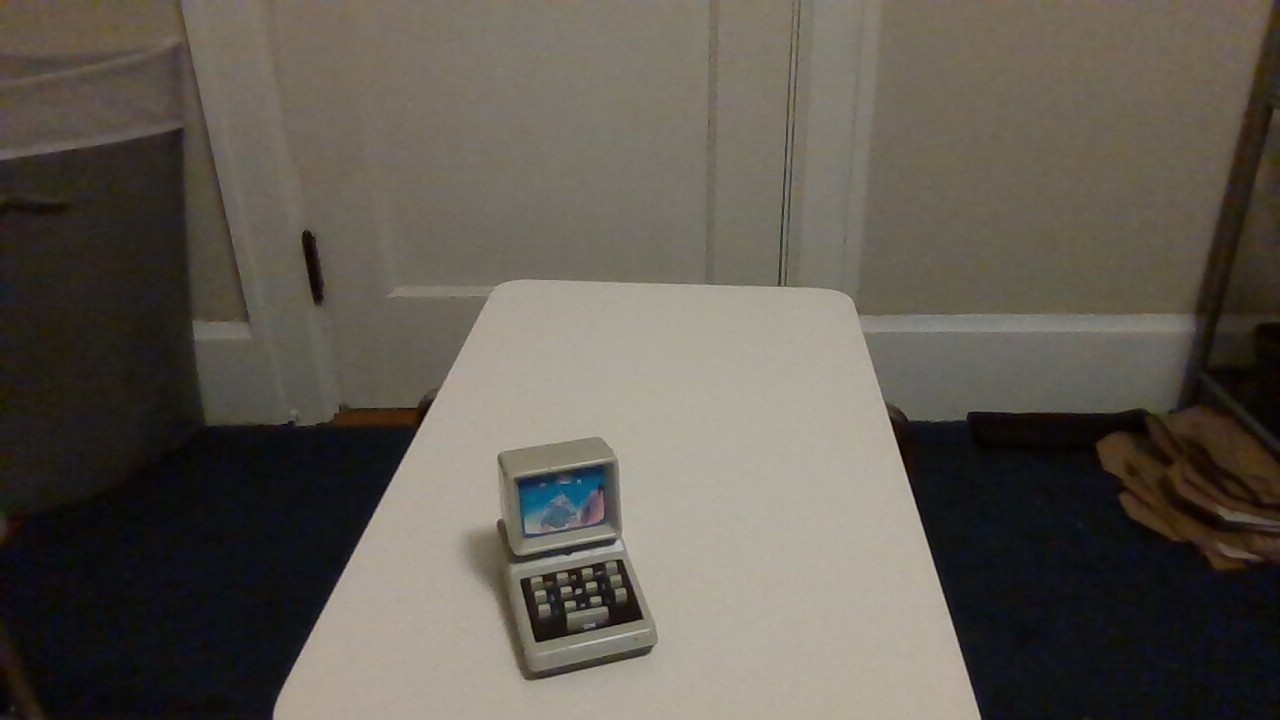Toy: (467, 433, 676, 688)
